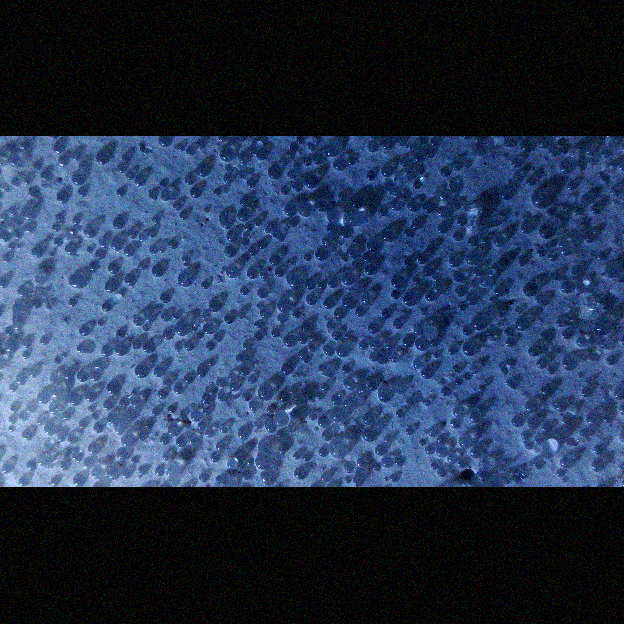GrassBeadSeg: (0, 160, 602, 439), (0, 152, 551, 434), (49, 122, 472, 455), (78, 126, 552, 409), (165, 158, 623, 450), (71, 142, 464, 477), (96, 143, 564, 424), (173, 177, 563, 480), (177, 135, 621, 393), (0, 175, 579, 370), (27, 177, 483, 423), (205, 154, 622, 422), (184, 153, 580, 429), (101, 144, 415, 466), (29, 161, 535, 354), (49, 306, 566, 487), (26, 182, 566, 351), (8, 124, 405, 345), (247, 157, 578, 422), (110, 165, 402, 464), (4, 270, 623, 411), (22, 132, 598, 283), (243, 243, 623, 471), (40, 141, 291, 484), (114, 157, 599, 333), (206, 209, 578, 430), (47, 178, 381, 423), (348, 185, 623, 470), (82, 245, 553, 409), (45, 160, 290, 462), (0, 200, 393, 387), (242, 209, 554, 437), (0, 230, 525, 363), (232, 131, 554, 340), (32, 145, 259, 435), (0, 238, 349, 420), (43, 292, 415, 462), (40, 296, 545, 420), (40, 295, 362, 485), (368, 169, 620, 411), (78, 231, 343, 457), (69, 141, 307, 389), (24, 206, 260, 454), (252, 282, 572, 456), (232, 211, 507, 410), (65, 162, 477, 289), (8, 329, 380, 464), (56, 130, 554, 230), (192, 144, 359, 436), (0, 217, 353, 354), (196, 228, 547, 364), (6, 214, 489, 312), (25, 187, 388, 317), (264, 179, 568, 333), (379, 219, 577, 455), (319, 130, 536, 342), (61, 254, 336, 420), (227, 186, 401, 442), (110, 311, 477, 426), (260, 243, 603, 364), (329, 147, 478, 425), (127, 181, 329, 381), (98, 236, 523, 327), (329, 274, 599, 416), (204, 190, 334, 482), (41, 136, 224, 343), (156, 134, 341, 331), (150, 231, 334, 426), (91, 154, 250, 379), (13, 308, 283, 435), (366, 225, 524, 441), (270, 293, 560, 409), (380, 122, 485, 427), (205, 159, 345, 384), (27, 134, 180, 334), (76, 256, 383, 353), (192, 324, 576, 401), (292, 192, 399, 467), (211, 238, 476, 347), (252, 127, 399, 314), (192, 364, 452, 469), (339, 191, 584, 302), (117, 244, 379, 345), (468, 279, 600, 466), (239, 209, 433, 326), (238, 146, 334, 381), (70, 192, 357, 270), (311, 239, 537, 337), (203, 394, 430, 481), (84, 230, 174, 446), (287, 125, 619, 182), (361, 250, 496, 390), (344, 401, 601, 474), (156, 329, 603, 369), (202, 123, 348, 244), (424, 214, 494, 455), (338, 208, 609, 270), (563, 179, 623, 459), (63, 226, 201, 346), (295, 349, 436, 465), (79, 273, 243, 371), (33, 359, 290, 420), (188, 154, 276, 329), (21, 230, 139, 349), (148, 290, 490, 330), (408, 284, 492, 446), (75, 282, 262, 352), (276, 195, 619, 233), (19, 262, 379, 298), (365, 337, 495, 436), (276, 129, 402, 231), (161, 131, 286, 229), (445, 368, 579, 457), (24, 353, 154, 443), (12, 128, 191, 191), (91, 127, 153, 297), (127, 294, 337, 343), (288, 125, 424, 200), (136, 123, 380, 164), (39, 268, 131, 375), (545, 342, 617, 477), (193, 274, 291, 372), (297, 164, 331, 425), (496, 324, 562, 450), (190, 291, 335, 347), (154, 192, 355, 230), (516, 164, 610, 245), (50, 432, 198, 483), (383, 384, 561, 426), (558, 216, 617, 342), (422, 322, 495, 419), (0, 202, 67, 305), (50, 314, 156, 379), (288, 273, 372, 352), (92, 341, 155, 444), (73, 202, 172, 266), (391, 178, 504, 234), (478, 212, 556, 293), (286, 396, 592, 416), (195, 317, 268, 397), (217, 411, 314, 469), (225, 363, 365, 403), (72, 230, 363, 249), (113, 227, 178, 312), (439, 127, 553, 173), (347, 460, 591, 481), (350, 190, 474, 230), (227, 232, 289, 312), (86, 374, 361, 392), (178, 153, 210, 306), (157, 339, 204, 435), (43, 387, 159, 424), (101, 267, 159, 336), (212, 136, 309, 177), (398, 268, 450, 344), (257, 330, 607, 341), (23, 369, 71, 449), (7, 163, 50, 250), (51, 366, 122, 418), (91, 178, 131, 264), (539, 288, 599, 343), (27, 208, 102, 251), (420, 135, 471, 198), (127, 206, 177, 270), (41, 435, 112, 479), (2, 441, 69, 487), (248, 242, 324, 282), (411, 291, 447, 375), (9, 301, 47, 380), (238, 389, 315, 426), (187, 470, 368, 485), (230, 421, 297, 460), (511, 241, 566, 288), (462, 246, 523, 287), (140, 375, 199, 417), (1, 403, 38, 469), (186, 389, 244, 431), (410, 313, 470, 352), (105, 221, 122, 350), (302, 387, 334, 455), (156, 306, 233, 333), (399, 246, 445, 291), (358, 301, 396, 355), (415, 135, 483, 164), (433, 426, 482, 466), (383, 221, 495, 238), (569, 132, 595, 202), (123, 308, 224, 326), (287, 419, 329, 460), (103, 433, 140, 479), (471, 457, 538, 482), (399, 123, 431, 174), (504, 290, 540, 335), (567, 223, 622, 252), (288, 332, 325, 374), (366, 261, 387, 329), (89, 419, 137, 444), (341, 265, 367, 310), (54, 412, 103, 433), (477, 287, 504, 324), (158, 435, 218, 451), (341, 210, 360, 259), (414, 424, 446, 452), (465, 359, 499, 385), (249, 447, 279, 470), (297, 329, 315, 358)
